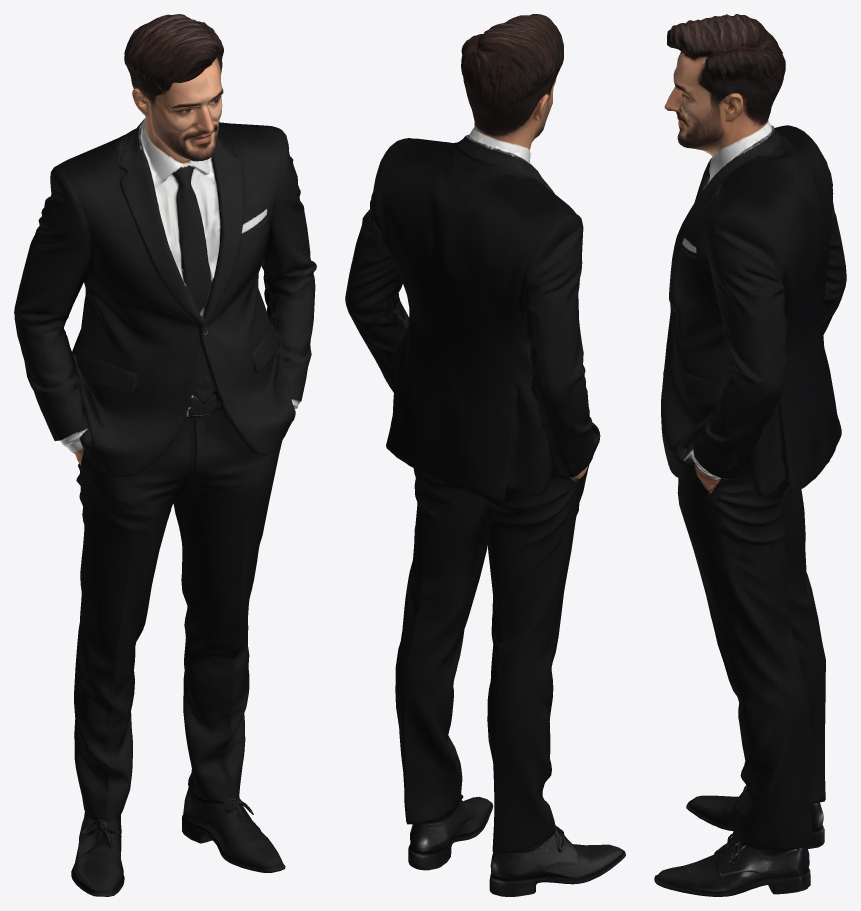
The model's file is midnight_elegance.glb.
3 renders of one model, left to right at view 1: azimuth 30°, elevation 25°; view 2: azimuth 150°, elevation 25°; view 3: azimuth 270°, elevation 25°, orthographic. The views are drawn at different scales.
Bounding box in the file's own units: 0.6211 × 1.9 × 0.3959.
Materials: 1 (1 with a texture image).
